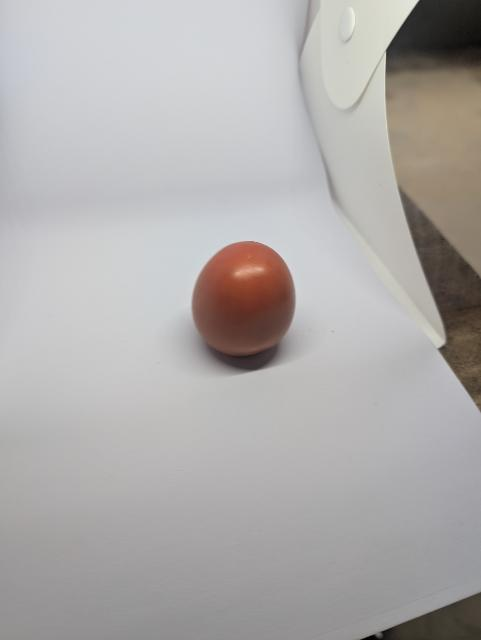red: (184, 236, 317, 366)
